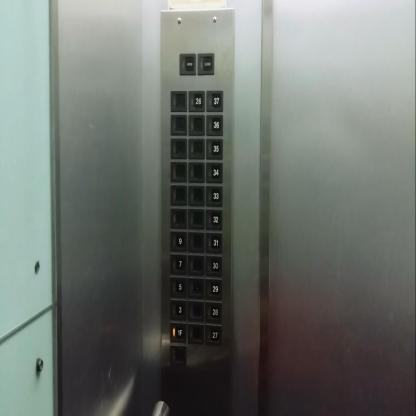1F: (170, 323, 187, 342)
26: (188, 90, 205, 112)
27: (204, 325, 221, 347)
28: (204, 300, 221, 323)
29: (205, 279, 223, 299)
3: (170, 299, 186, 321)
30: (204, 255, 221, 277)
31: (205, 232, 222, 254)
32: (204, 209, 221, 230)
33: (205, 186, 223, 206)
34: (205, 163, 223, 183)
35: (205, 138, 223, 160)
36: (206, 114, 223, 136)
37: (206, 90, 223, 111)
5: (170, 277, 186, 296)
7: (170, 255, 187, 275)
9: (170, 232, 187, 252)
empty: (170, 112, 188, 136), (187, 231, 205, 254), (187, 278, 205, 301), (170, 184, 187, 208), (187, 323, 204, 346), (187, 300, 204, 322), (187, 256, 205, 276), (188, 114, 205, 135), (188, 139, 205, 160), (171, 161, 188, 182), (188, 185, 204, 207), (188, 208, 204, 230), (170, 90, 186, 112), (188, 161, 205, 181), (171, 138, 188, 158), (170, 209, 187, 229)
text: (179, 53, 196, 74), (197, 53, 214, 73)
